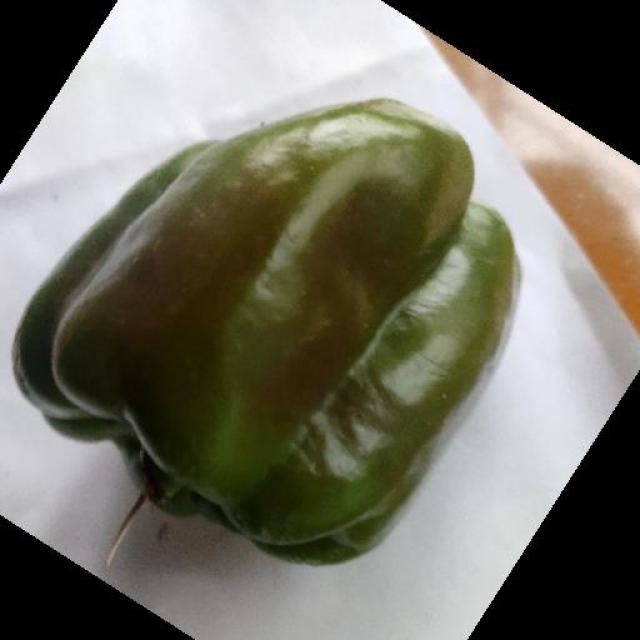Stale_Capsicum: (70, 96, 439, 627)
